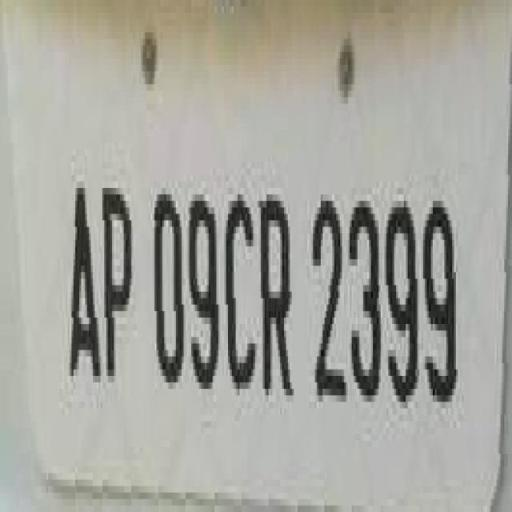number plate: (11, 32, 512, 506)
